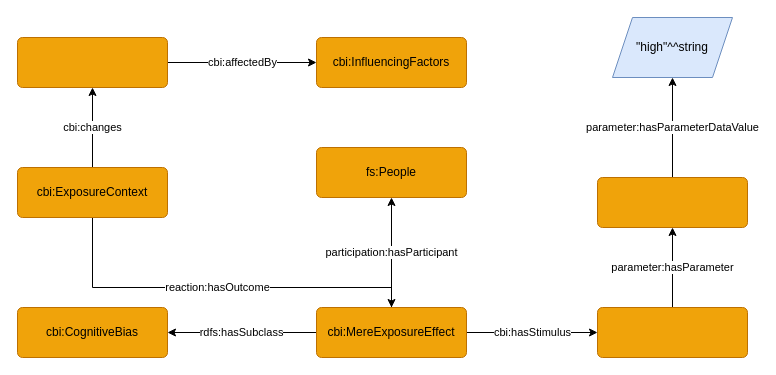
Image size: 776x375. Some labels were removed from this diagram. The box of each missing label's shape, as (x1, y1, x2, y2) in pixels:
emotion:Stimulus: (596, 306, 748, 358)
fs:Frequency: (596, 176, 748, 228)
reco:Preference: (16, 36, 168, 88)
